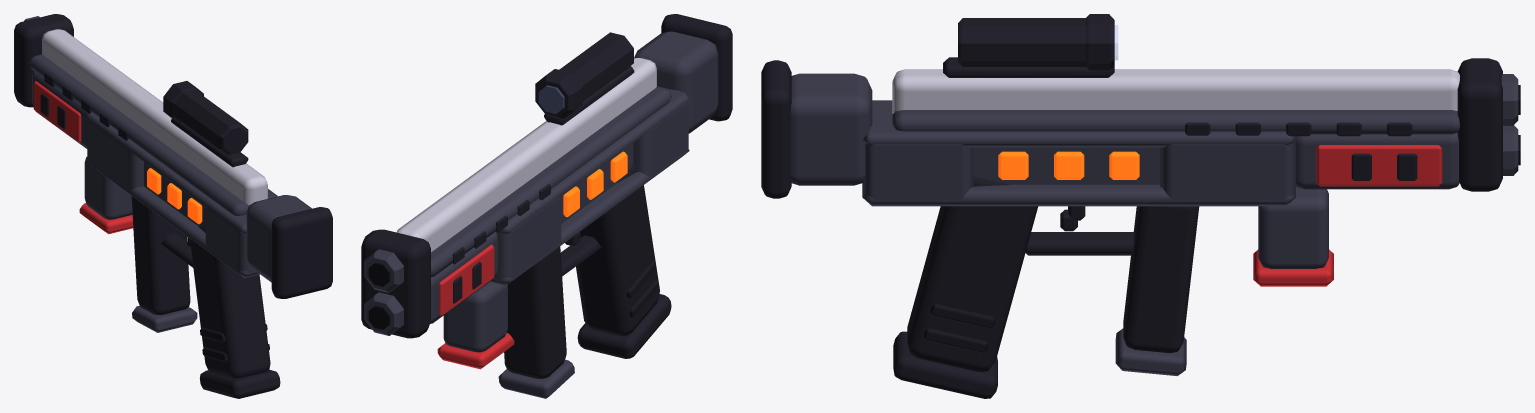
The model's file is heavy_gun_marine.glb.
The picture shows the model from 3 angles, left to right: view 1: azimuth 30°, elevation 25°; view 2: azimuth 150°, elevation 25°; view 3: azimuth 270°, elevation 25°; orthographic projection. The views are drawn at different scales.
Visible parts, largest first — view 1: item.heavy_gun_marine.body, part.mag; view 2: item.heavy_gun_marine.body, part.mag; view 3: item.heavy_gun_marine.body, part.mag.
Boxes of the visible parts, box(x1,y1,x2,y2) form: item.heavy_gun_marine.body: box(14, 14, 332, 398); part.mag: box(79, 157, 133, 234); item.heavy_gun_marine.body: box(361, 14, 732, 398); part.mag: box(437, 282, 514, 369); item.heavy_gun_marine.body: box(761, 14, 1520, 398); part.mag: box(1253, 186, 1333, 286).
Size of the model in its own units: 0.1125 by 0.5031 by 0.9406.
